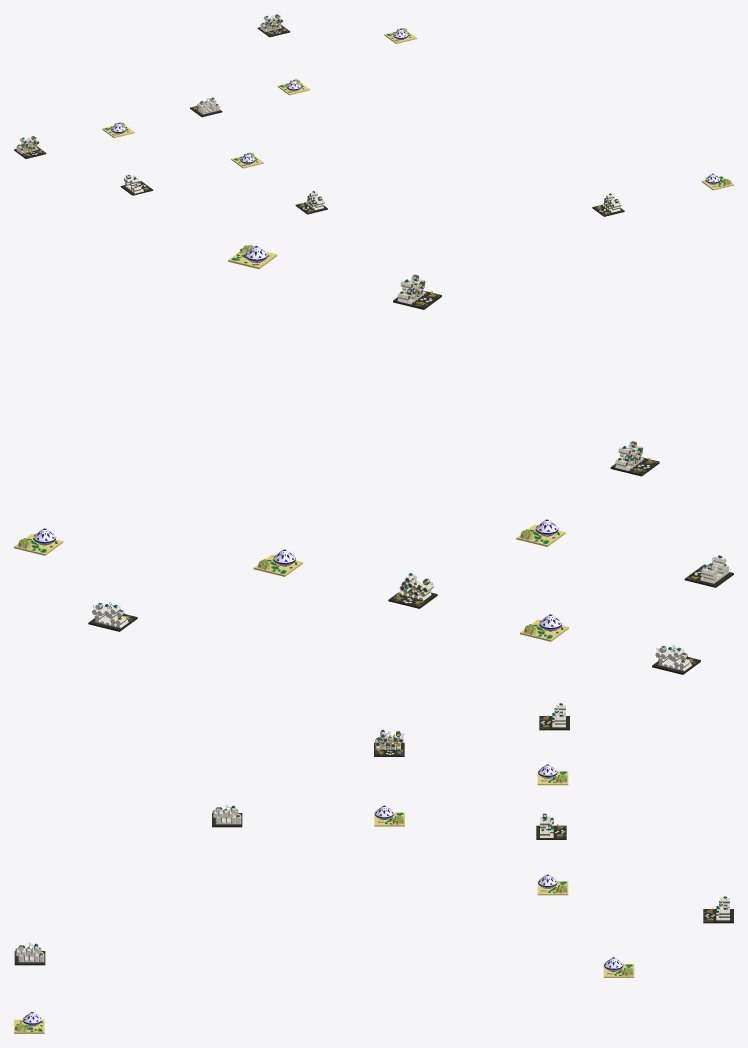
The model's file is D9_White_area_2.fbx.
3 views of the same model, one above another, from view 1: azimuth 30°, elevation 25°; view 2: azimuth 150°, elevation 25°; view 3: azimuth 270°, elevation 25° (orthographic). The views are drawn at different scales.
Parts seen in each view (by area): view 1: Cube.341, Cube.334, Cube.340, Cube.362, Cube.338, Cube.336; view 2: Cube.336, Cube.362, Cube.340, Cube.334, Cube.341, Cube.338, Cube.339, Cube.337, Cube.342, Cube.335, Cube.363; view 3: Cube.338, Cube.362, Cube.340, Cube.334, Cube.336, Cube.341, Cube.335, Cube.337, Cube.363, Cube.339.
Part boxes in pixels (x1,y1,x2,y2): Cube.341: (257, 14, 290, 37); Cube.334: (14, 136, 46, 158); Cube.340: (295, 191, 327, 214); Cube.362: (592, 193, 624, 216); Cube.338: (120, 174, 153, 195); Cube.336: (190, 97, 222, 117); Cube.336: (388, 573, 437, 608); Cube.362: (393, 274, 441, 309); Cube.340: (610, 441, 659, 476); Cube.334: (652, 645, 700, 674); Cube.341: (88, 602, 137, 631); Cube.338: (684, 555, 733, 587); Cube.339: (516, 519, 565, 546); Cube.337: (253, 549, 302, 576); Cube.342: (14, 528, 63, 555); Cube.335: (520, 614, 568, 641); Cube.363: (228, 245, 277, 268); Cube.338: (374, 729, 404, 756); Cube.362: (14, 942, 45, 965); Cube.340: (212, 804, 242, 827); Cube.334: (539, 703, 569, 730); Cube.336: (536, 813, 566, 839); Cube.341: (703, 896, 733, 923); Cube.335: (537, 764, 568, 785); Cube.337: (537, 874, 568, 895); Cube.363: (14, 1012, 44, 1033); Cube.339: (374, 805, 404, 826).
Size of the model in its own units: 98010 by 2583 by 94222.
11 materials, 9 textured.
